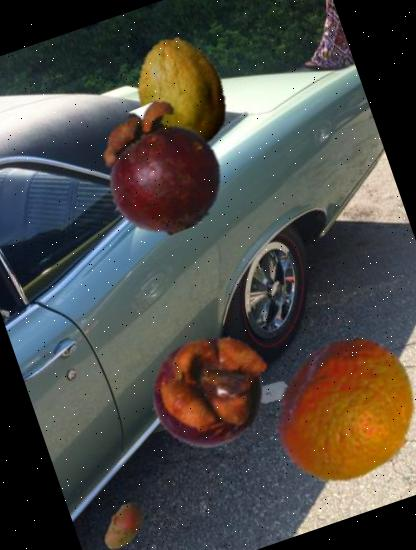Mandarine: (251, 316, 416, 504)
Mangostan: (79, 86, 244, 250), (132, 311, 288, 467)
Nut: (304, 370, 384, 448)
Papaya: (113, 22, 253, 162)
Potato: (91, 493, 157, 550)
